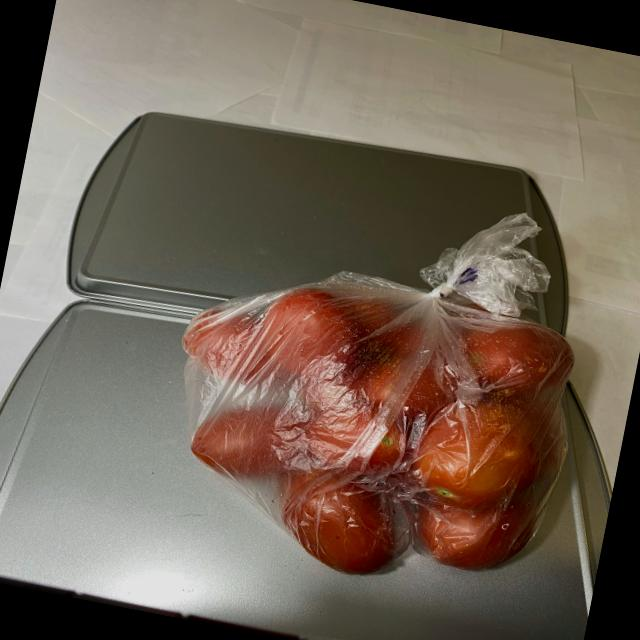tomato: (154, 256, 596, 608)
